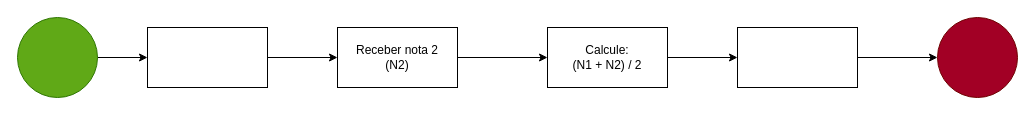
The diagram is 1035 pixels wide and 115 high, and some of its shapes have lost their labels. Here are the shapes that lost their labels. From the top down, the centre of each, then its label:
At [207,57]: "Receber nota 1 (N1)".
At [797,57]: "Exibir resultado".
